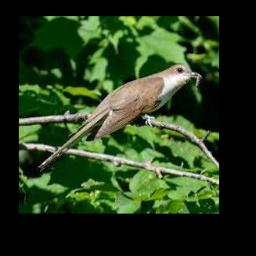Cuckoo: (38, 63, 201, 172)
